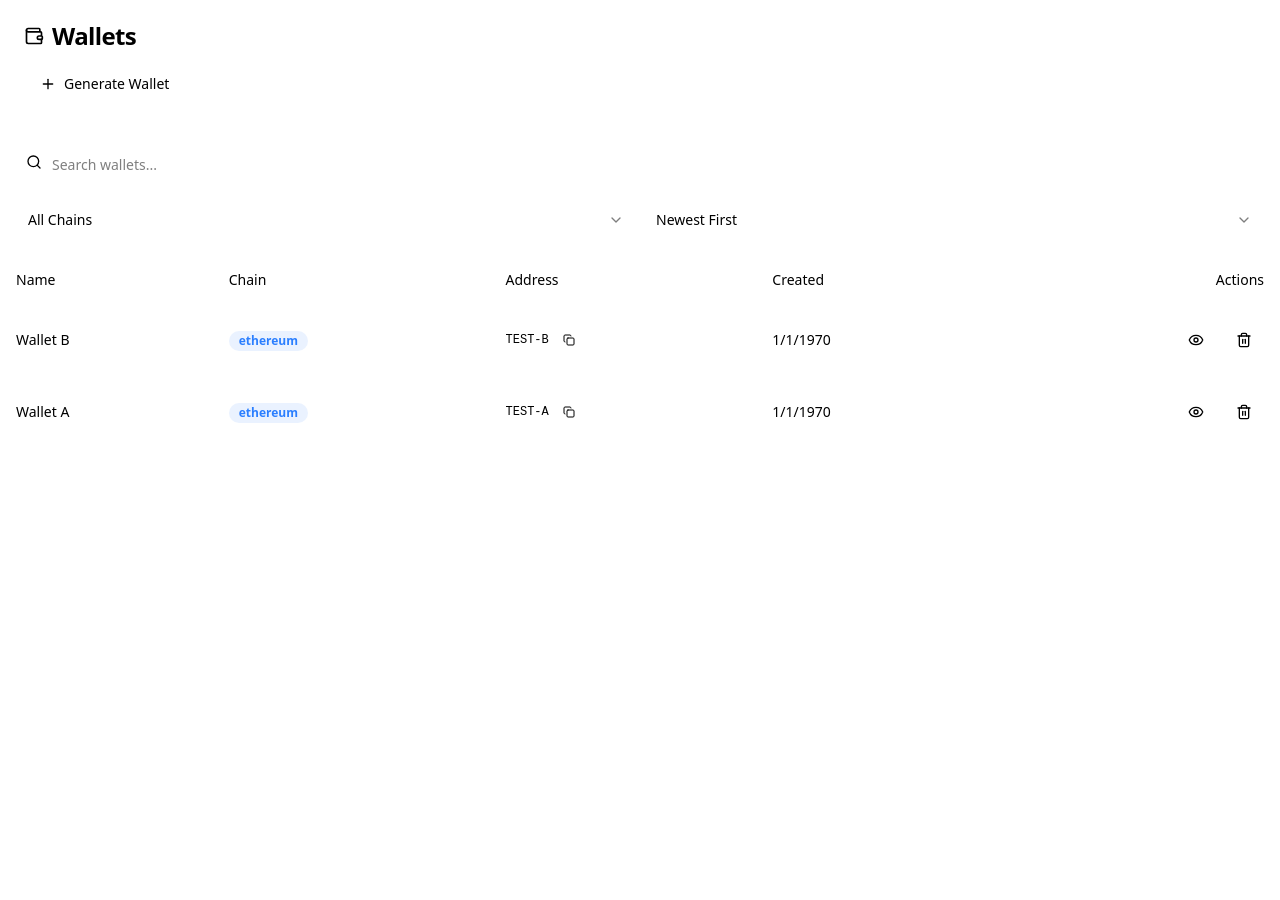
it: discards a late unlock after closing wallet A and opening wallet B, even if abort is ignored
Check: the text "Wallet A" is shown, box [0,376,213,448]
Click the button titled "View Private Key" in the row of "TEST-A" at (1196, 412), box [1176,392,1216,432]
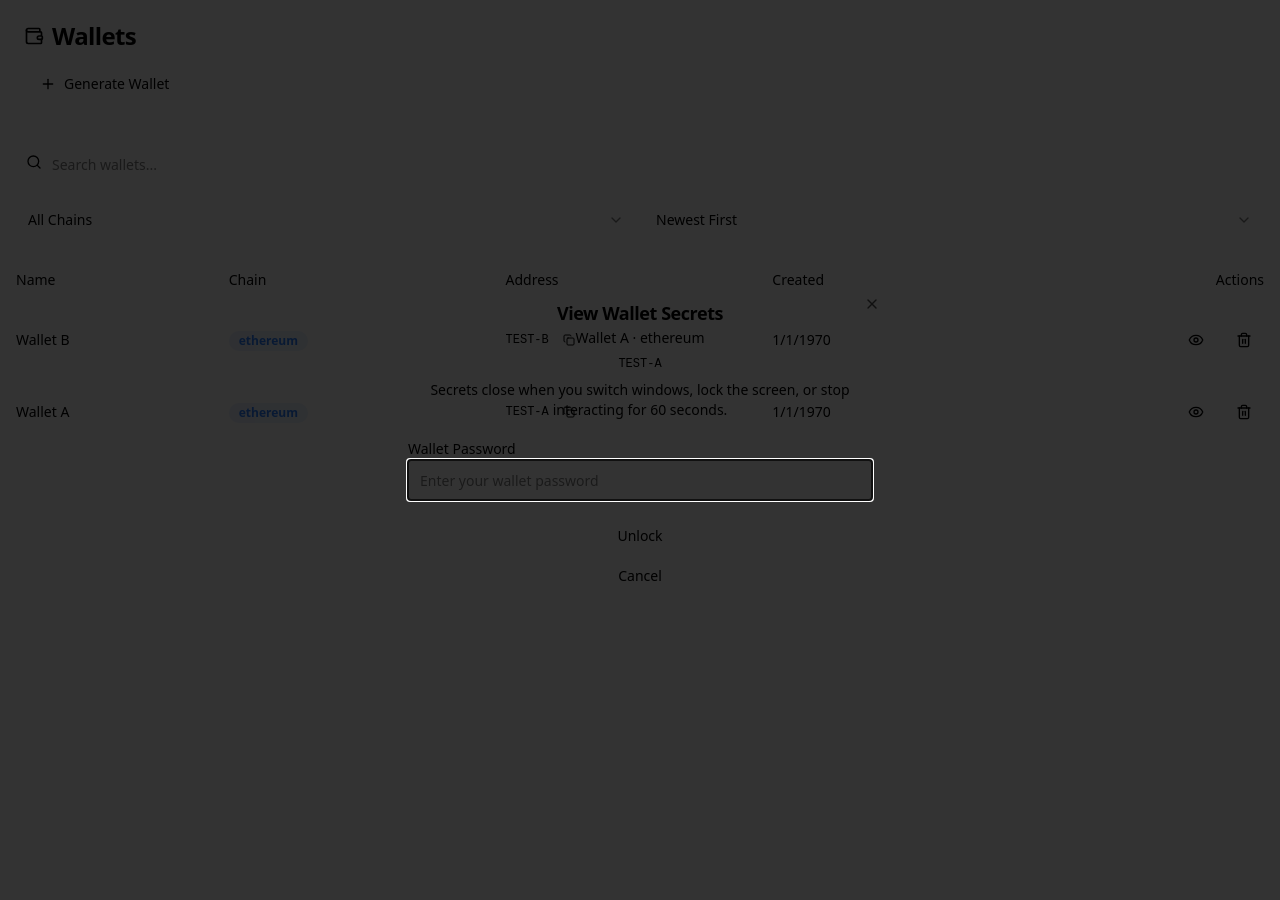
Type "disposable-password" into the password field with placeholder "Enter your wallet password" at (640, 480), box [408,460,872,500]
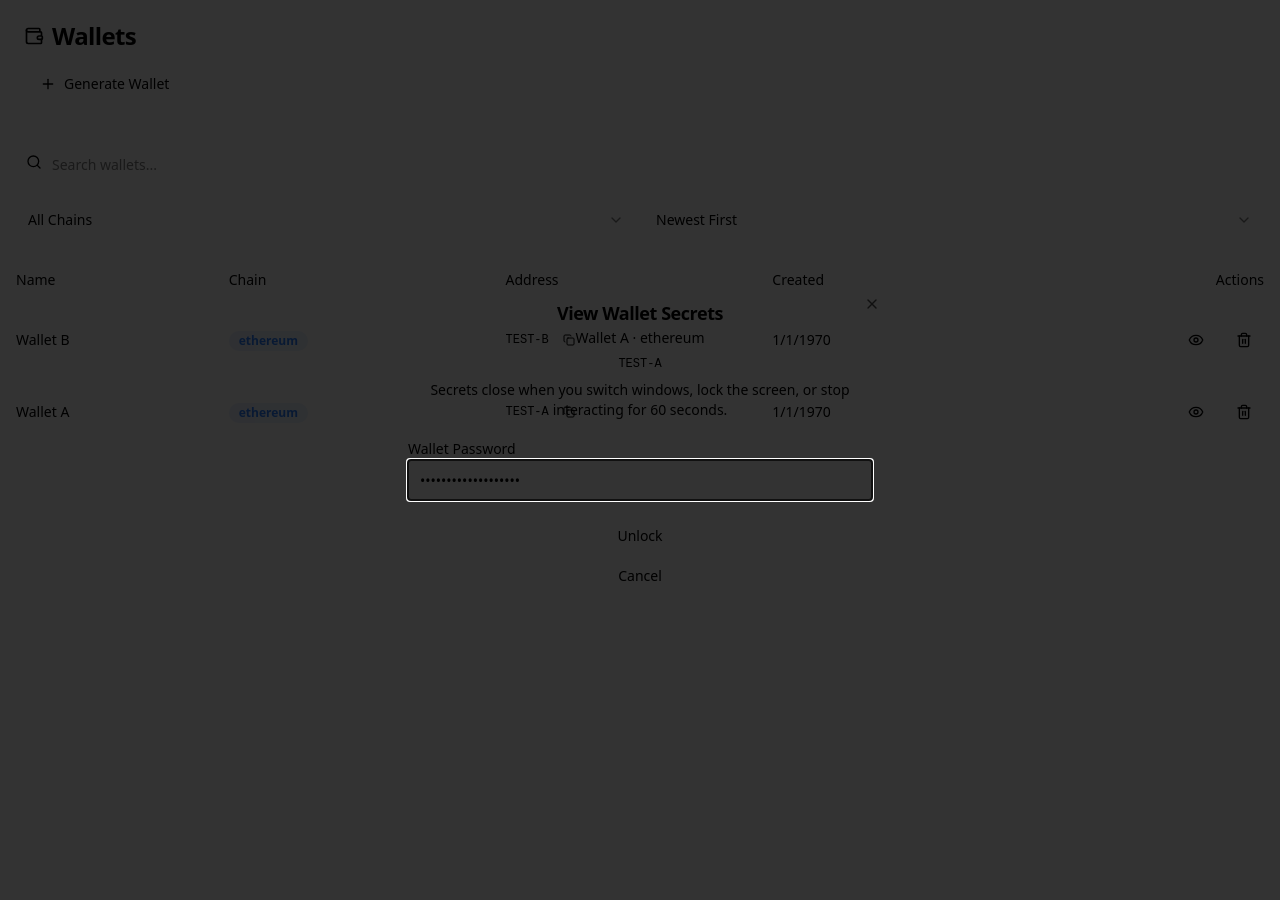
Click the button "Unlock" at (640, 536), box [408,516,872,556]
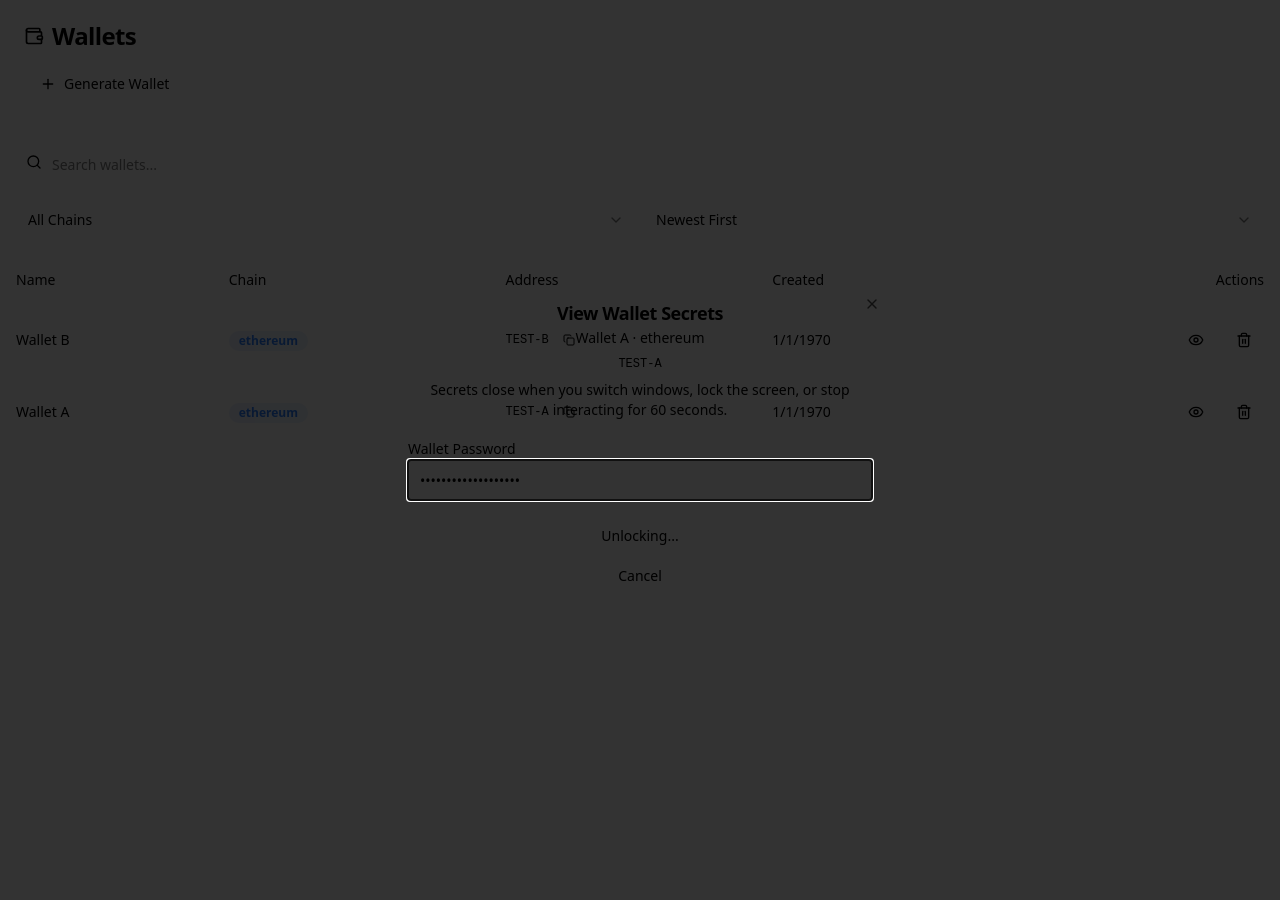
Click the button "Cancel" at (640, 576), box [408,556,872,596]
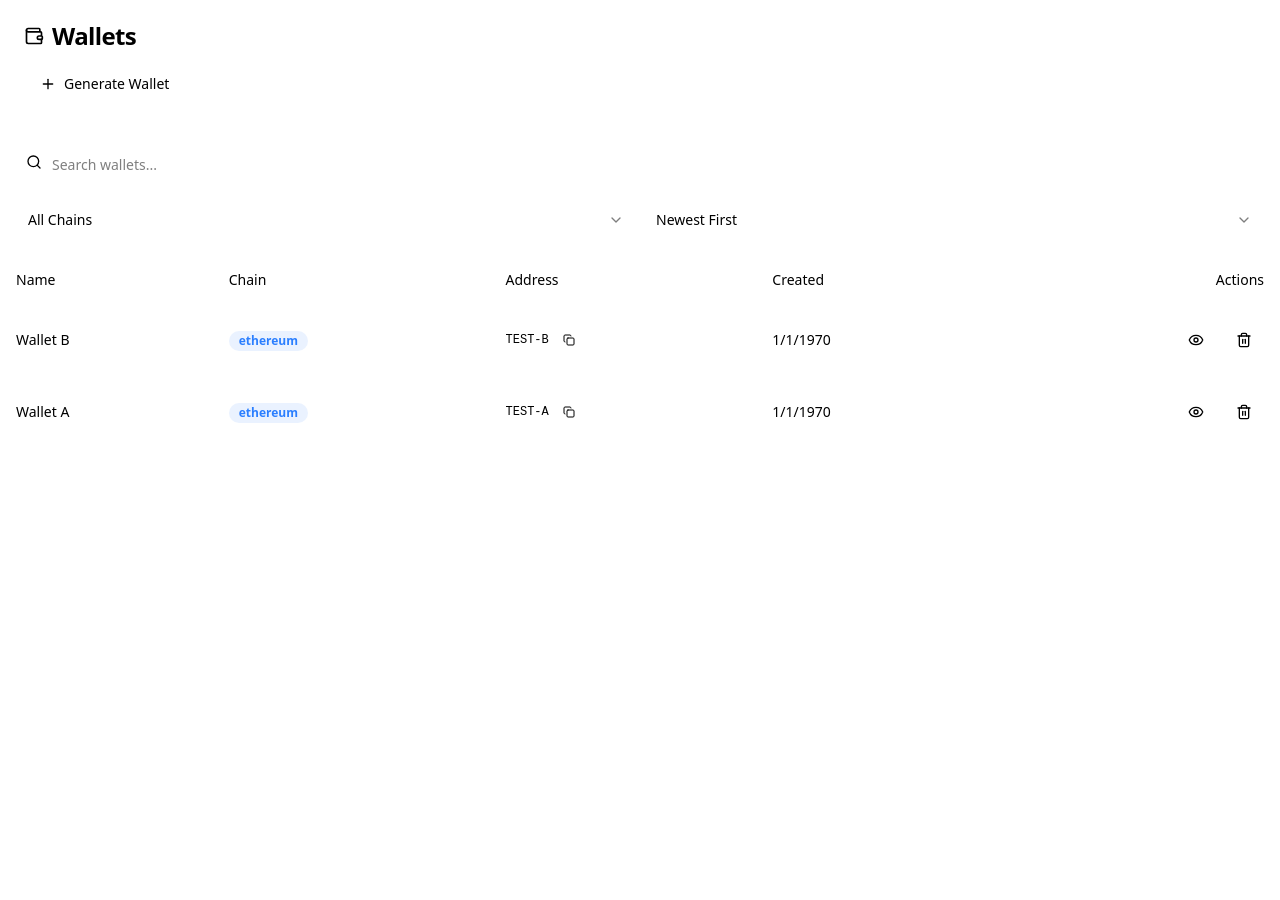
Click the button titled "View Private Key" in the row of "Wallet B" at (1196, 340), box [1176,320,1216,360]
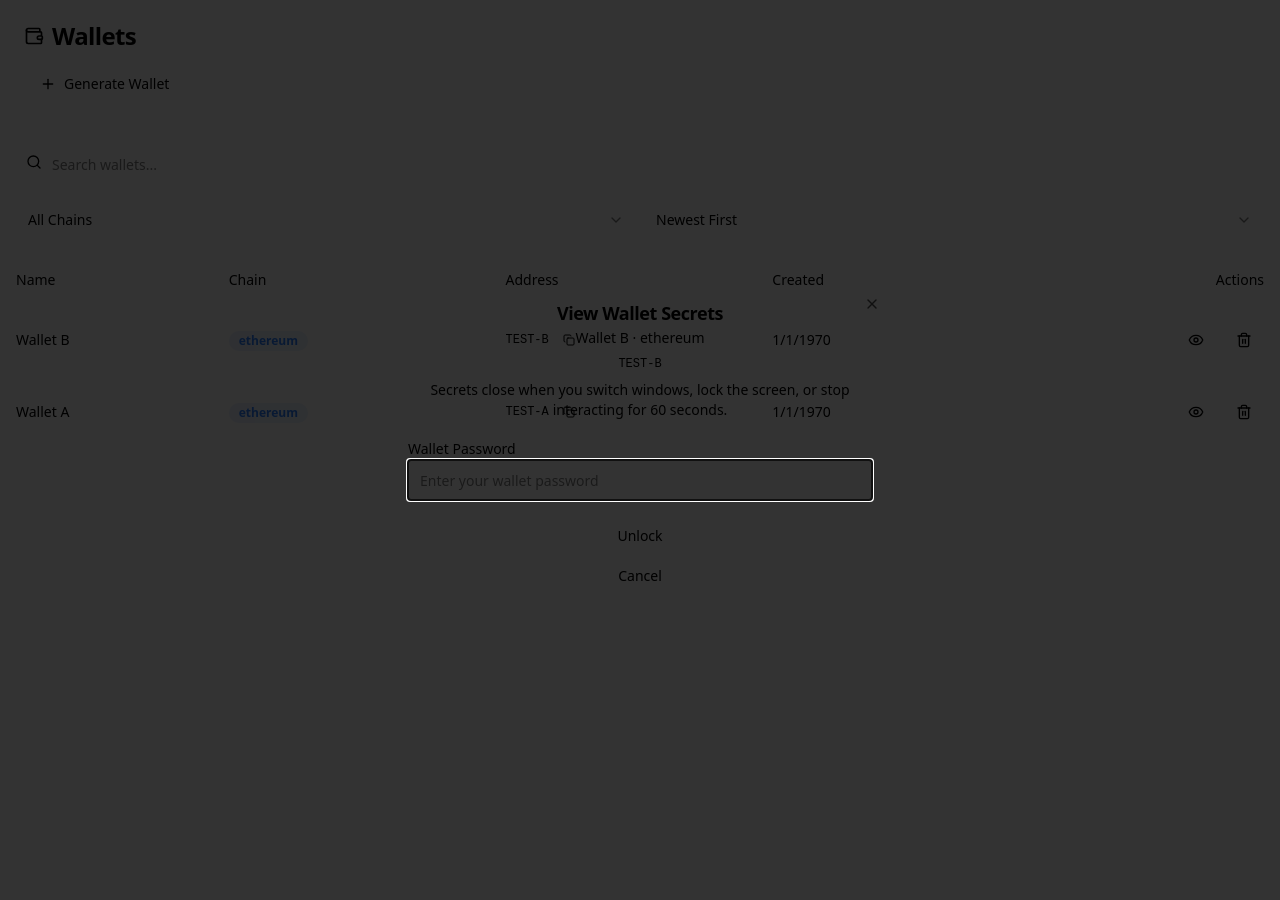
Check: the password field with placeholder "Enter your wallet password" is shown, box [408,460,872,500]
Check: the text "TEST-B" is shown, box [618,357,662,371]
